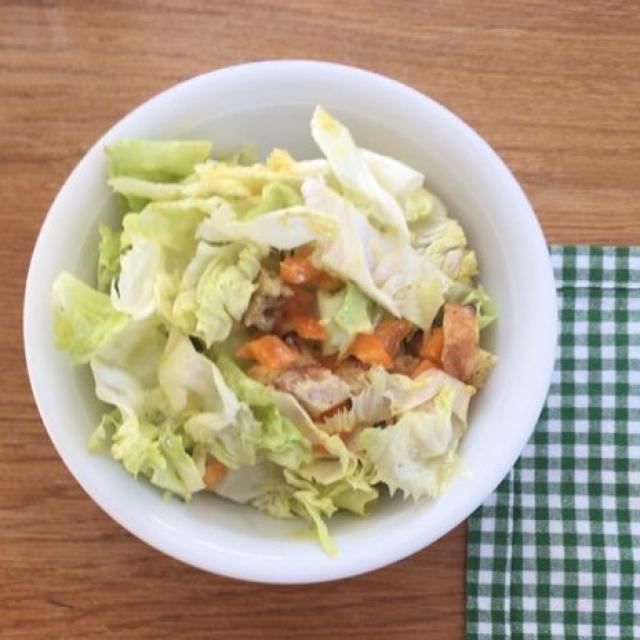croutons: (250, 261, 482, 392)
salad: (73, 131, 486, 536)
